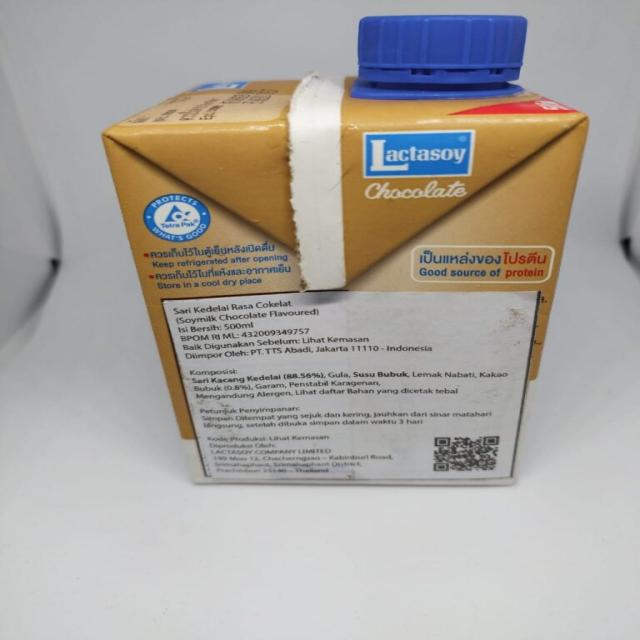cardboard: (111, 9, 581, 497)
